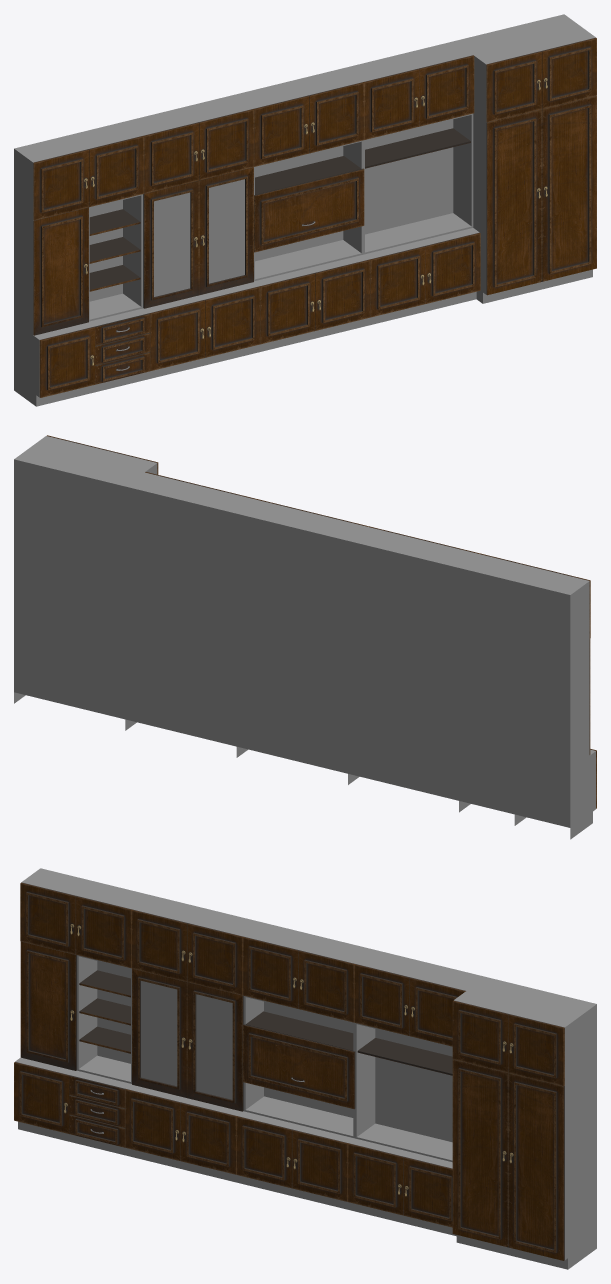
The model's file is Kitchen cabinet library.fbx.
3 views of the same model, one above another, from view 1: azimuth 30°, elevation 25°; view 2: azimuth 150°, elevation 25°; view 3: azimuth 330°, elevation 25° (orthographic).
Visible parts, largest first — view 1: 02, 01, Glass; view 2: 01, 02; view 3: 02, 01, Glass.
Boxes of the visible parts, left/top/right/bottom form: 02: left=33, top=38, right=596, bottom=397; 01: left=14, top=14, right=595, bottom=406; Glass: left=154, top=179, right=244, bottom=296; 01: left=14, top=436, right=595, bottom=839; 02: left=47, top=435, right=596, bottom=808; 02: left=14, top=882, right=564, bottom=1260; 01: left=15, top=868, right=596, bottom=1269; Glass: left=141, top=981, right=232, bottom=1099.
Size of the model in its own units: 500 by 210 by 53.89.
Materials: 3 (1 with a texture image).
